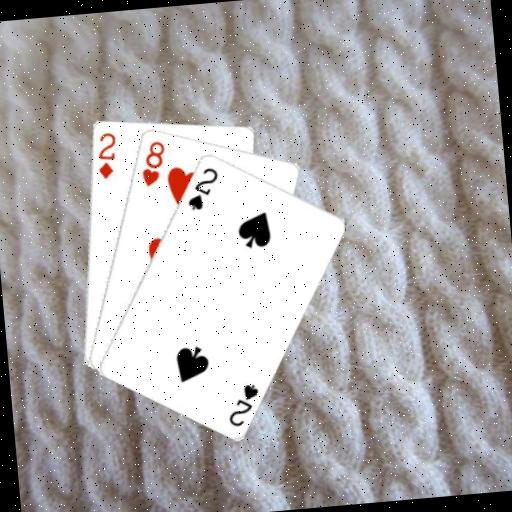2D: (92, 129, 120, 181)
2S: (182, 163, 223, 212), (222, 380, 263, 429)
8H: (136, 137, 169, 188)
